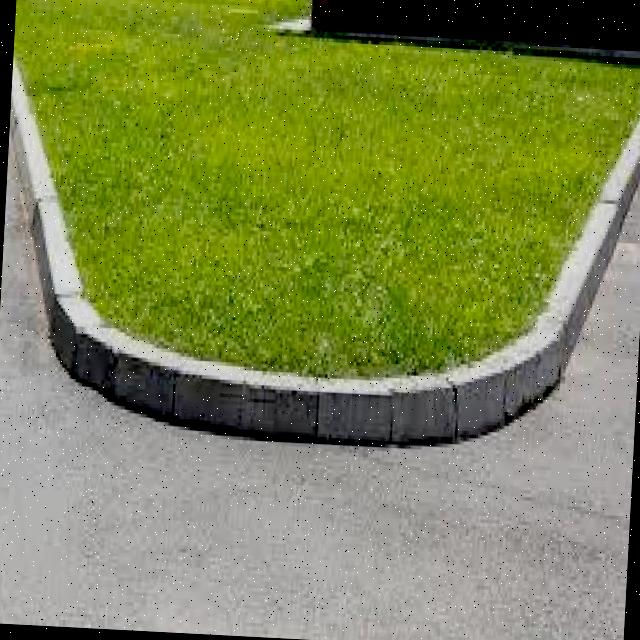curb: (123, 346, 491, 459), (40, 272, 132, 403), (8, 152, 82, 280), (477, 348, 566, 429), (529, 275, 595, 367), (563, 209, 619, 283), (598, 141, 640, 215)
